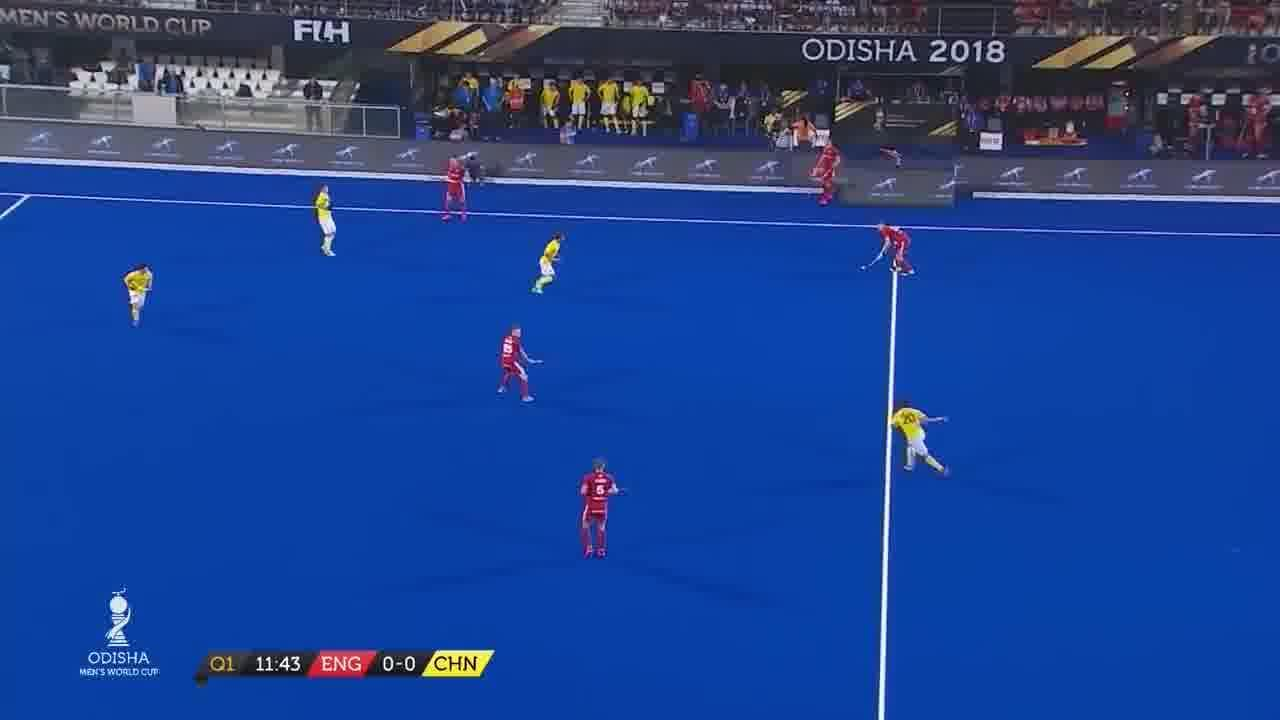ball: (857, 262, 868, 276)
